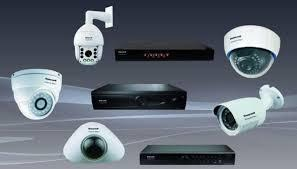maru: (223, 25, 283, 79), (9, 68, 64, 120), (61, 122, 129, 163), (74, 23, 106, 65)
tutu: (213, 96, 270, 136)
